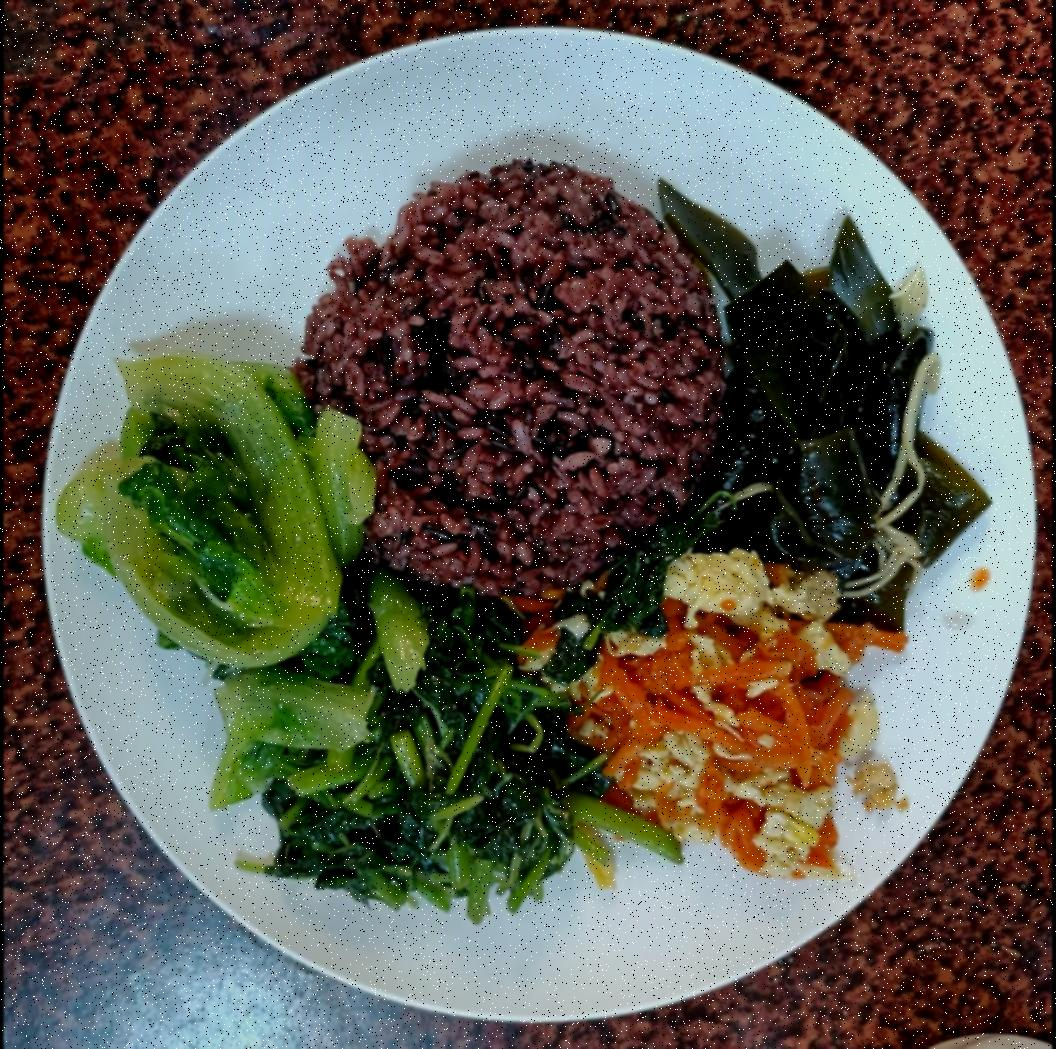plate: (31, 9, 1027, 1027)
purple rice: (312, 149, 746, 597)
side dish: (97, 342, 423, 751), (276, 593, 610, 917), (725, 233, 978, 645), (587, 560, 882, 870)
